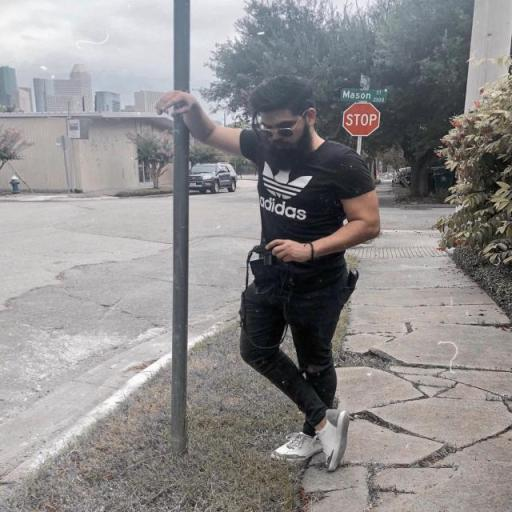Adidas: (256, 159, 314, 220)
